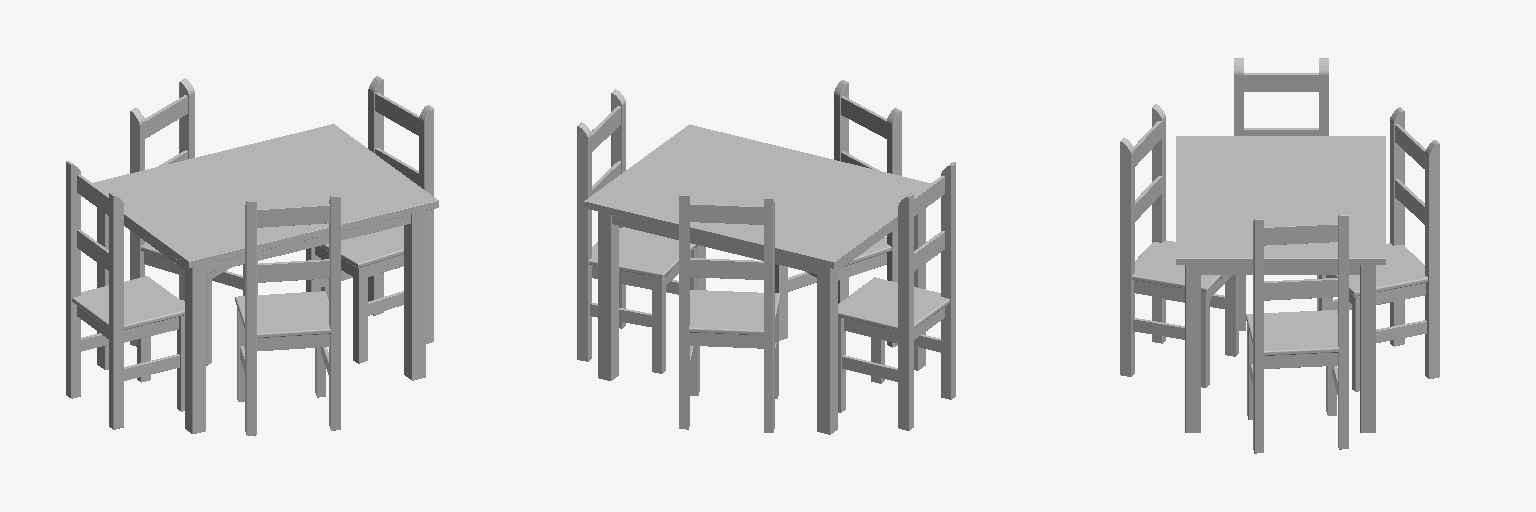
File: kitchenTable.obj
3 views of the same model, side by side, from view 1: azimuth 30°, elevation 25°; view 2: azimuth 150°, elevation 25°; view 3: azimuth 270°, elevation 25° (orthographic).
Parts seen in each view (by area): view 1: e482af4e7122d17e4ddb8c9d[number redacted]bafd8e1a; view 2: e482af4e7122d17e4ddb8c9d[number redacted]bafd8e1a; view 3: e482af4e7122d17e4ddb8c9d[number redacted]bafd8e1a.
Part boxes in pixels (x1,y1,x2,y2): e482af4e7122d17e4ddb8c9d[number redacted]bafd8e1a: (66,76,438,435); e482af4e7122d17e4ddb8c9d[number redacted]bafd8e1a: (577,80,955,434); e482af4e7122d17e4ddb8c9d[number redacted]bafd8e1a: (1120,58,1439,453).
Bounding box in the file's own units: 145 × 98.26 × 122.